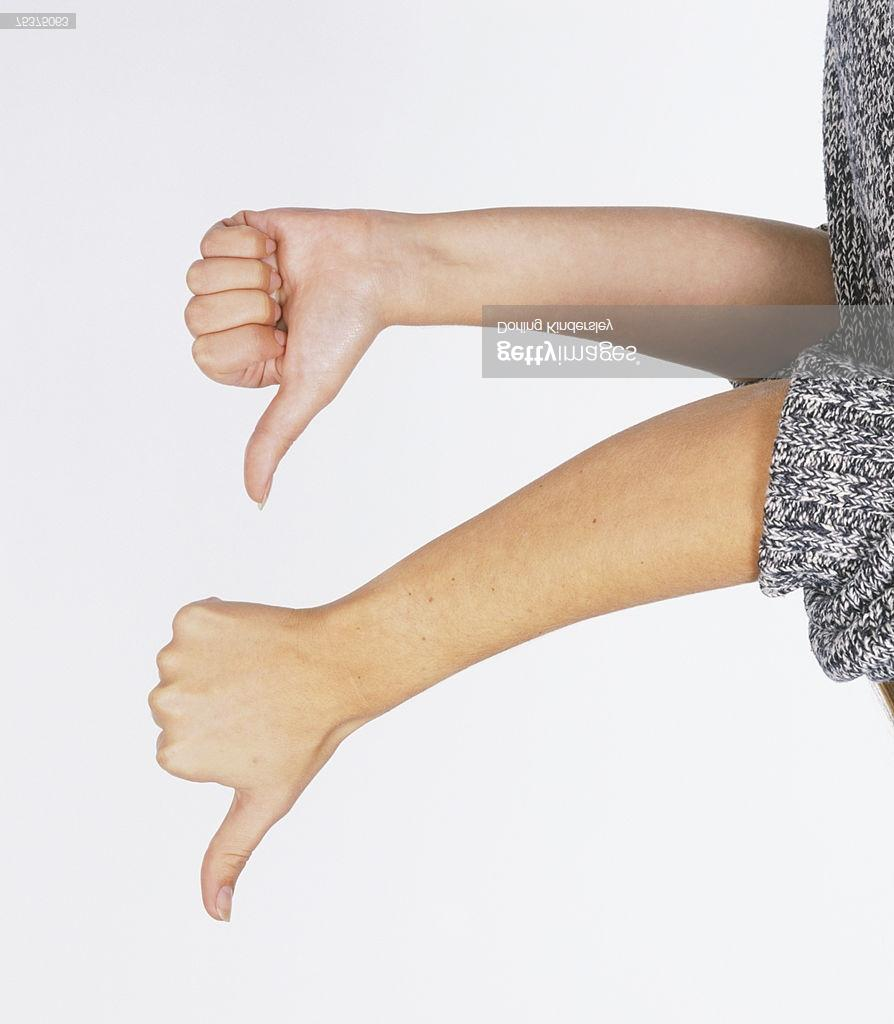thumbsdown: (147, 602, 291, 924), (184, 208, 327, 510)
